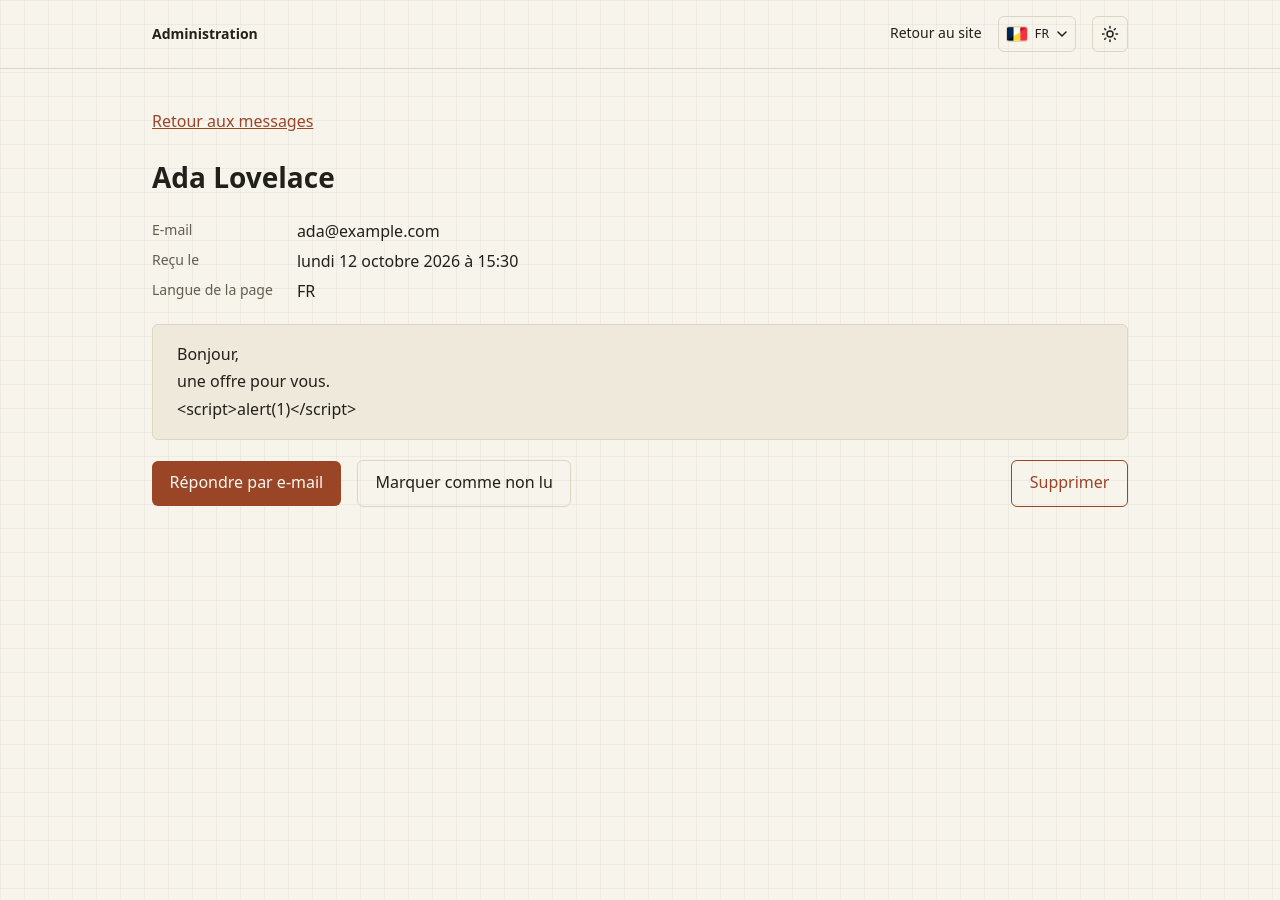
Test: message › mark as unread goes back to the inbox
What coordinates should you click on to do the following:
click the button "Marquer comme non lu"
I would click on:
 (464, 483)
Its box is x1=357 y1=460 x2=571 y2=506.
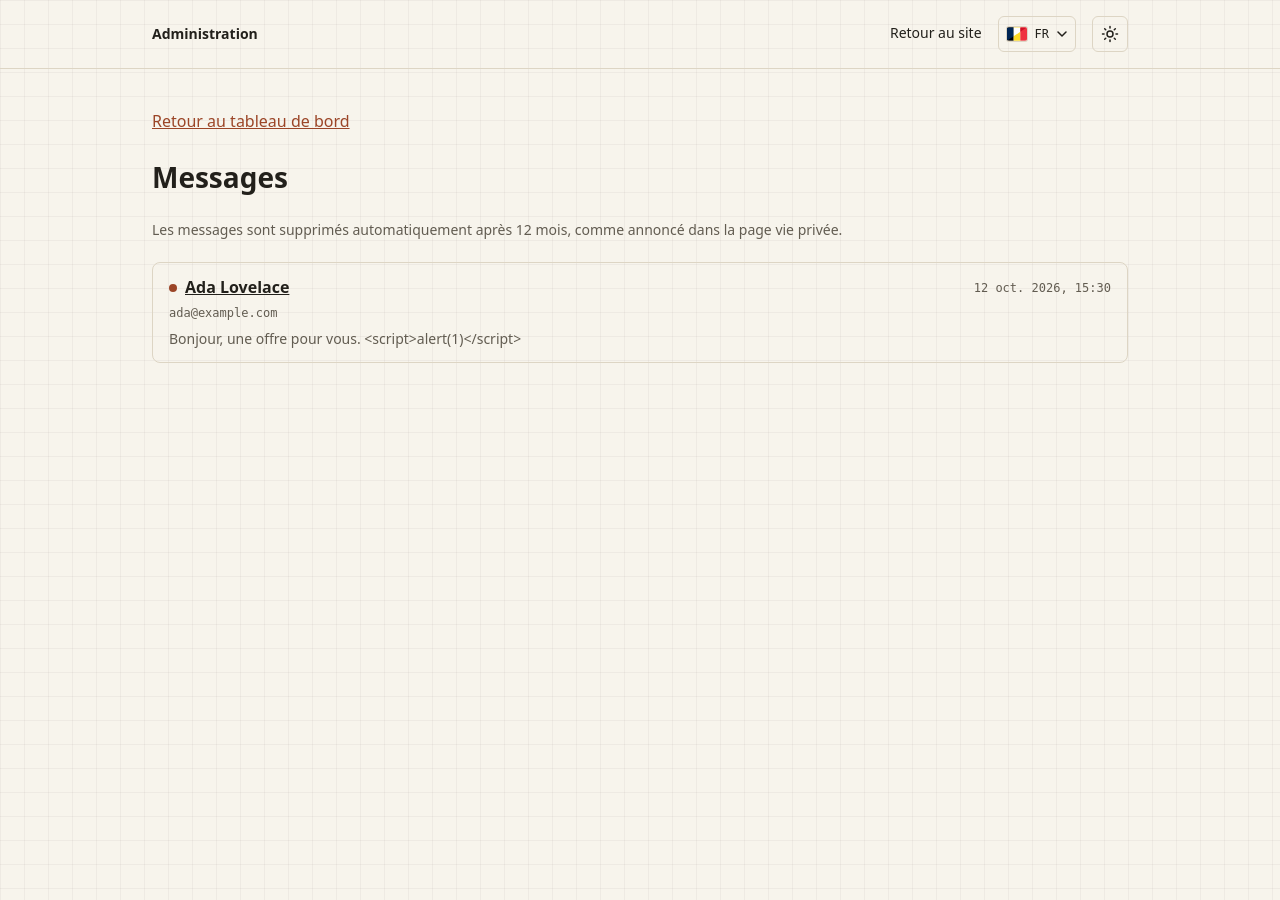
Check: the heading "Messages" is shown, box x1=152 y1=158 x2=288 y2=196
